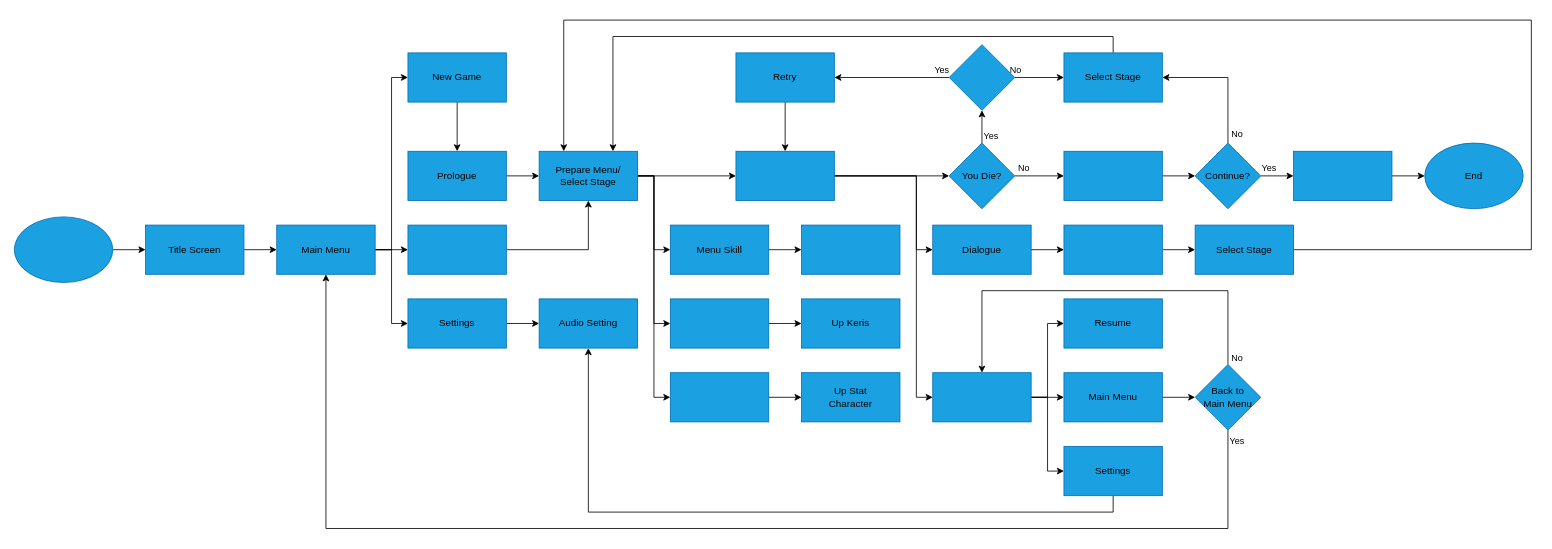
Image size: 1552x549. Some labels were removed from this diagram. Each missing label, with the box of its shape:
Continue: (407, 224, 506, 274)
Gameplay: (735, 150, 834, 200)
Launch Game: (14, 216, 113, 282)
Menu: (932, 372, 1031, 422)
Menu Profile: (670, 372, 769, 422)
Menu Weapon: (670, 298, 769, 348)
Next Stage: (1293, 150, 1392, 200)
Reward: (1063, 224, 1162, 274)
Stage Clear: (1063, 150, 1162, 200)
Try Again?: (948, 44, 1015, 110)
Up Skill: (801, 224, 900, 274)
